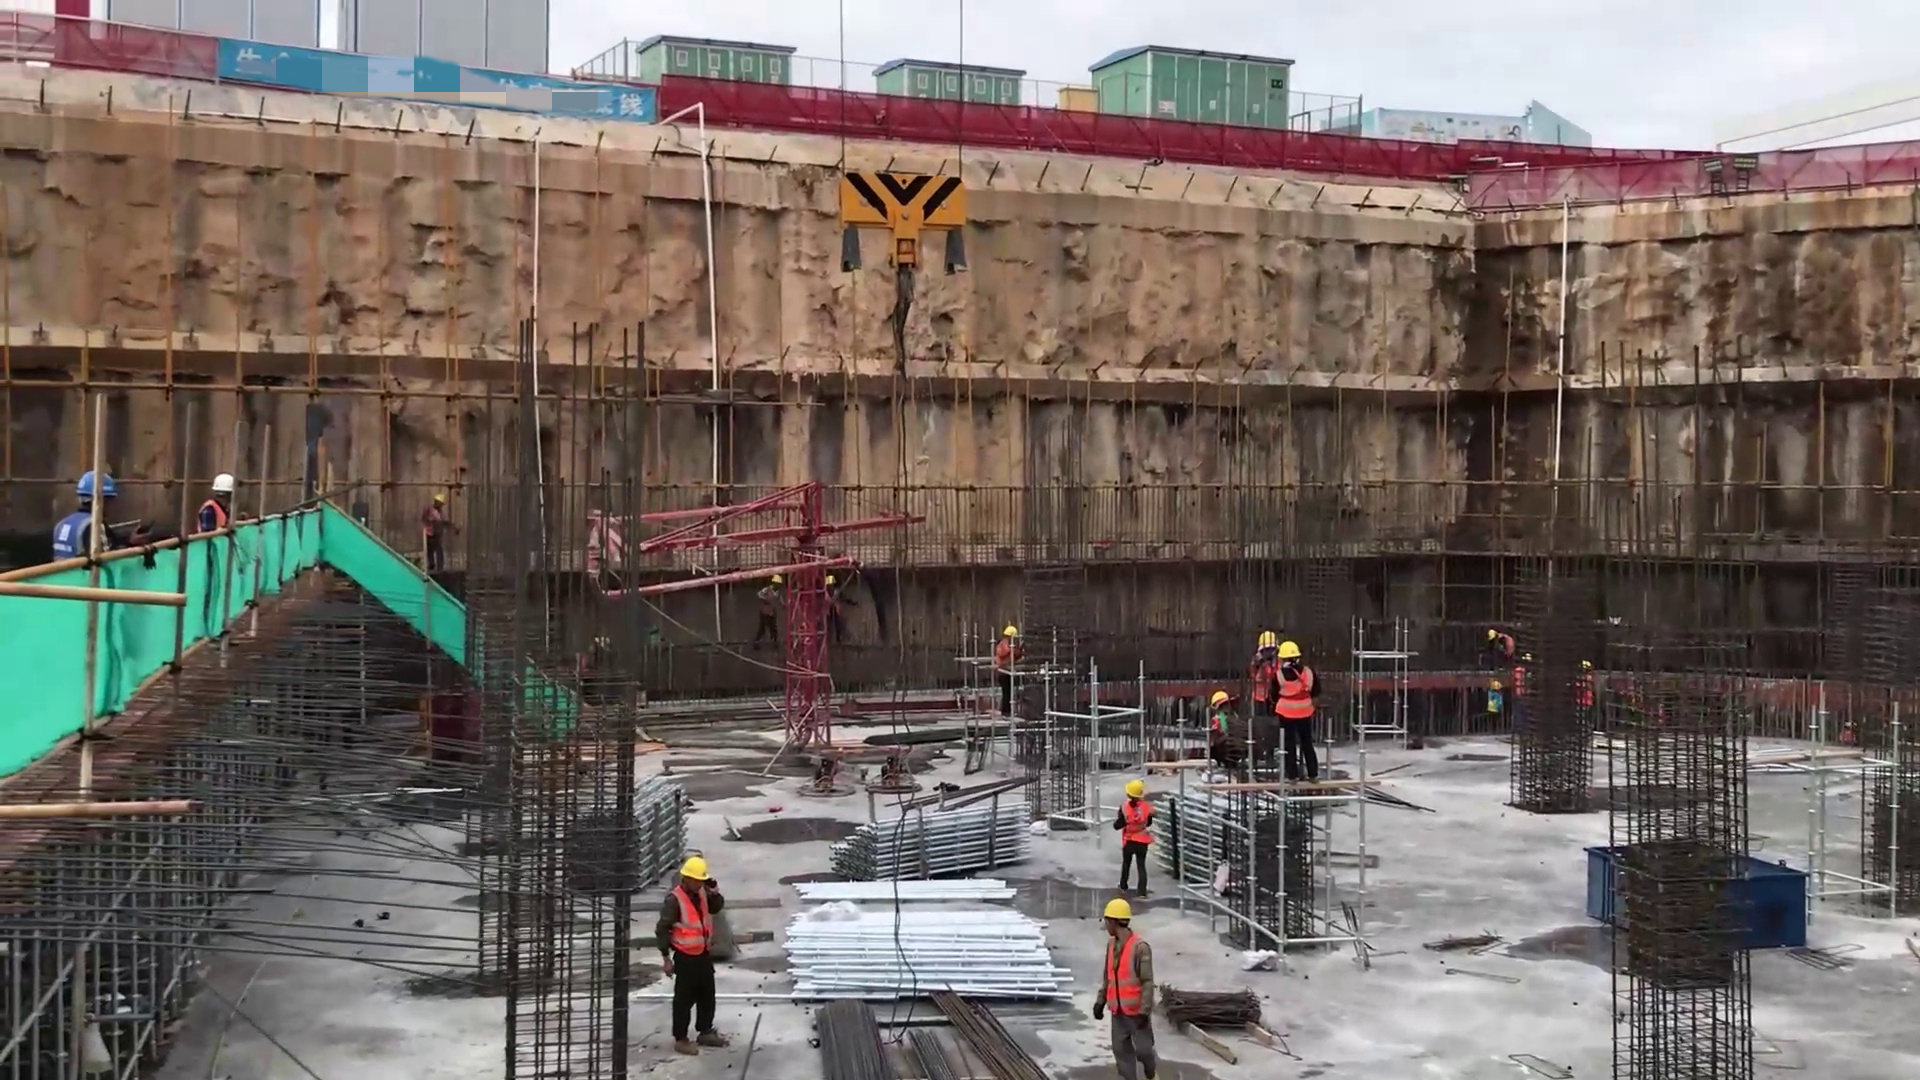helmet: (73, 465, 129, 507), (202, 468, 255, 506), (1274, 631, 1312, 668), (1102, 892, 1142, 927), (1254, 620, 1294, 651), (682, 849, 717, 883), (1117, 764, 1147, 801), (998, 622, 1024, 638), (1213, 681, 1228, 691)
hook: (828, 160, 975, 287)
person: (648, 846, 742, 1058), (1092, 893, 1168, 1080), (1274, 639, 1329, 781), (46, 461, 101, 570), (1111, 776, 1161, 891), (1246, 619, 1282, 747), (194, 472, 238, 543), (1202, 677, 1240, 747)
vest: (667, 868, 716, 957), (1101, 935, 1151, 1014), (55, 500, 116, 556), (1113, 800, 1163, 854), (1275, 665, 1319, 723)
